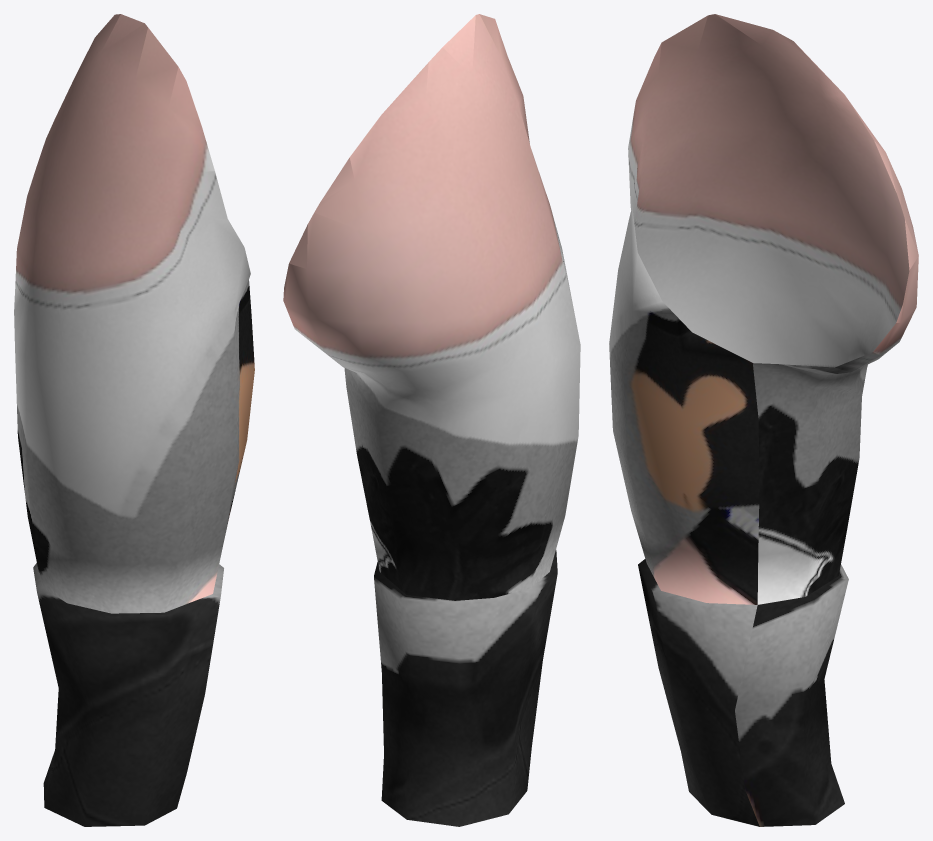
Rendered from Lfoot1.obj.
3 views of the same model, side by side, from view 1: azimuth 30°, elevation 25°; view 2: azimuth 150°, elevation 25°; view 3: azimuth 270°, elevation 25° (orthographic). The views are drawn at different scales.
Parts seen in each view (by area): view 1: polySurface52 polySurface49 polySurface47 polySurface44 polySurf; view 2: polySurface52 polySurface49 polySurface47 polySurface44 polySurf; view 3: polySurface52 polySurface49 polySurface47 polySurface44 polySurf.
Boxes of the visible parts, bbox=[...] form: polySurface52 polySurface49 polySurface47 polySurface44 polySurf: bbox=[14, 14, 254, 826]; polySurface52 polySurface49 polySurface47 polySurface44 polySurf: bbox=[283, 14, 580, 826]; polySurface52 polySurface49 polySurface47 polySurface44 polySurf: bbox=[609, 14, 918, 826].
Size of the model in its own units: 3.79 by 13.41 by 4.78.
1 material, 1 textured.
